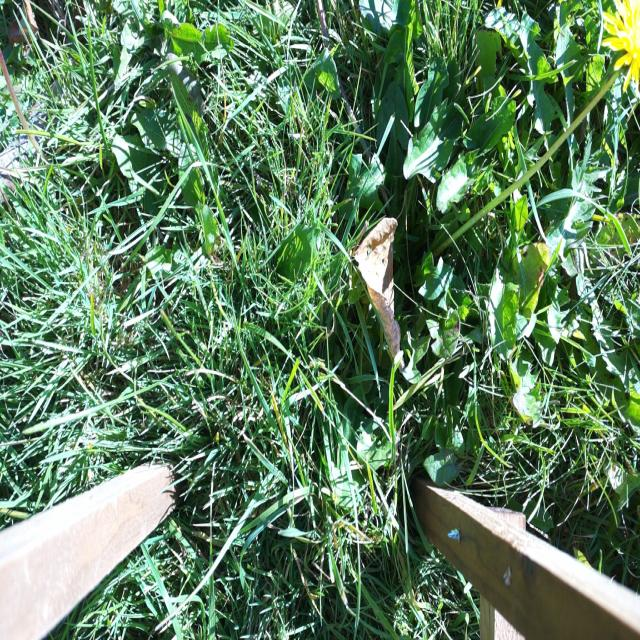base: (426, 233, 451, 269)
flower: (605, 0, 640, 80)
